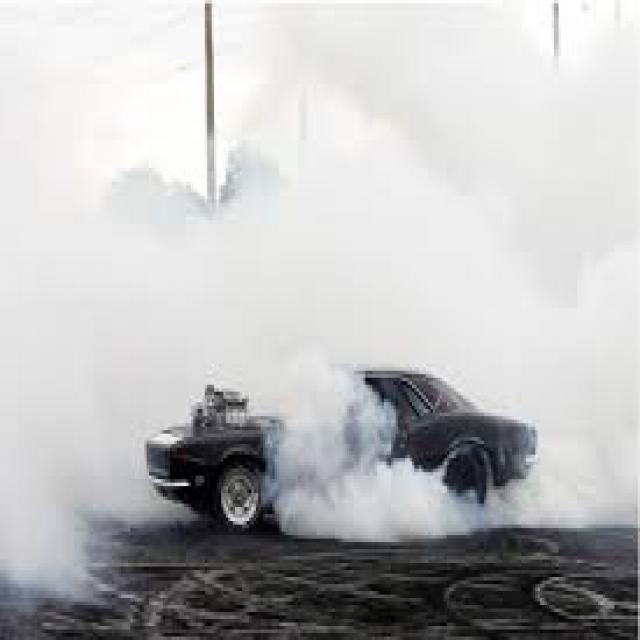Smoke: (71, 159, 589, 534)
